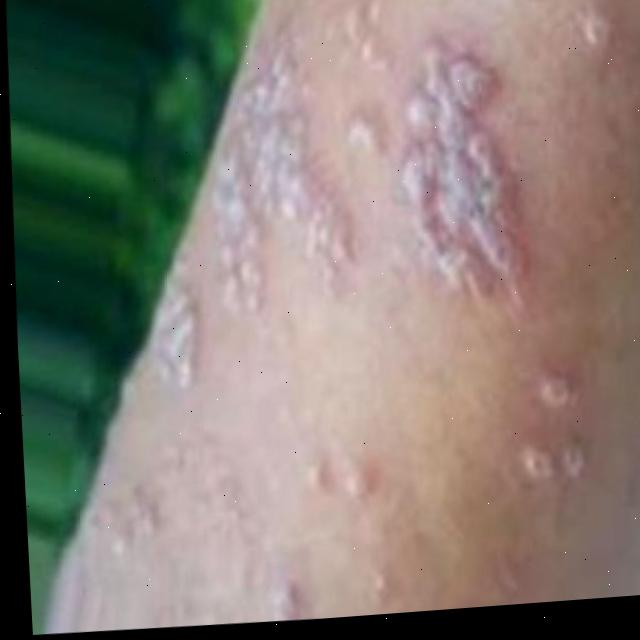Shingles: (118, 0, 535, 396), (515, 370, 601, 491)
